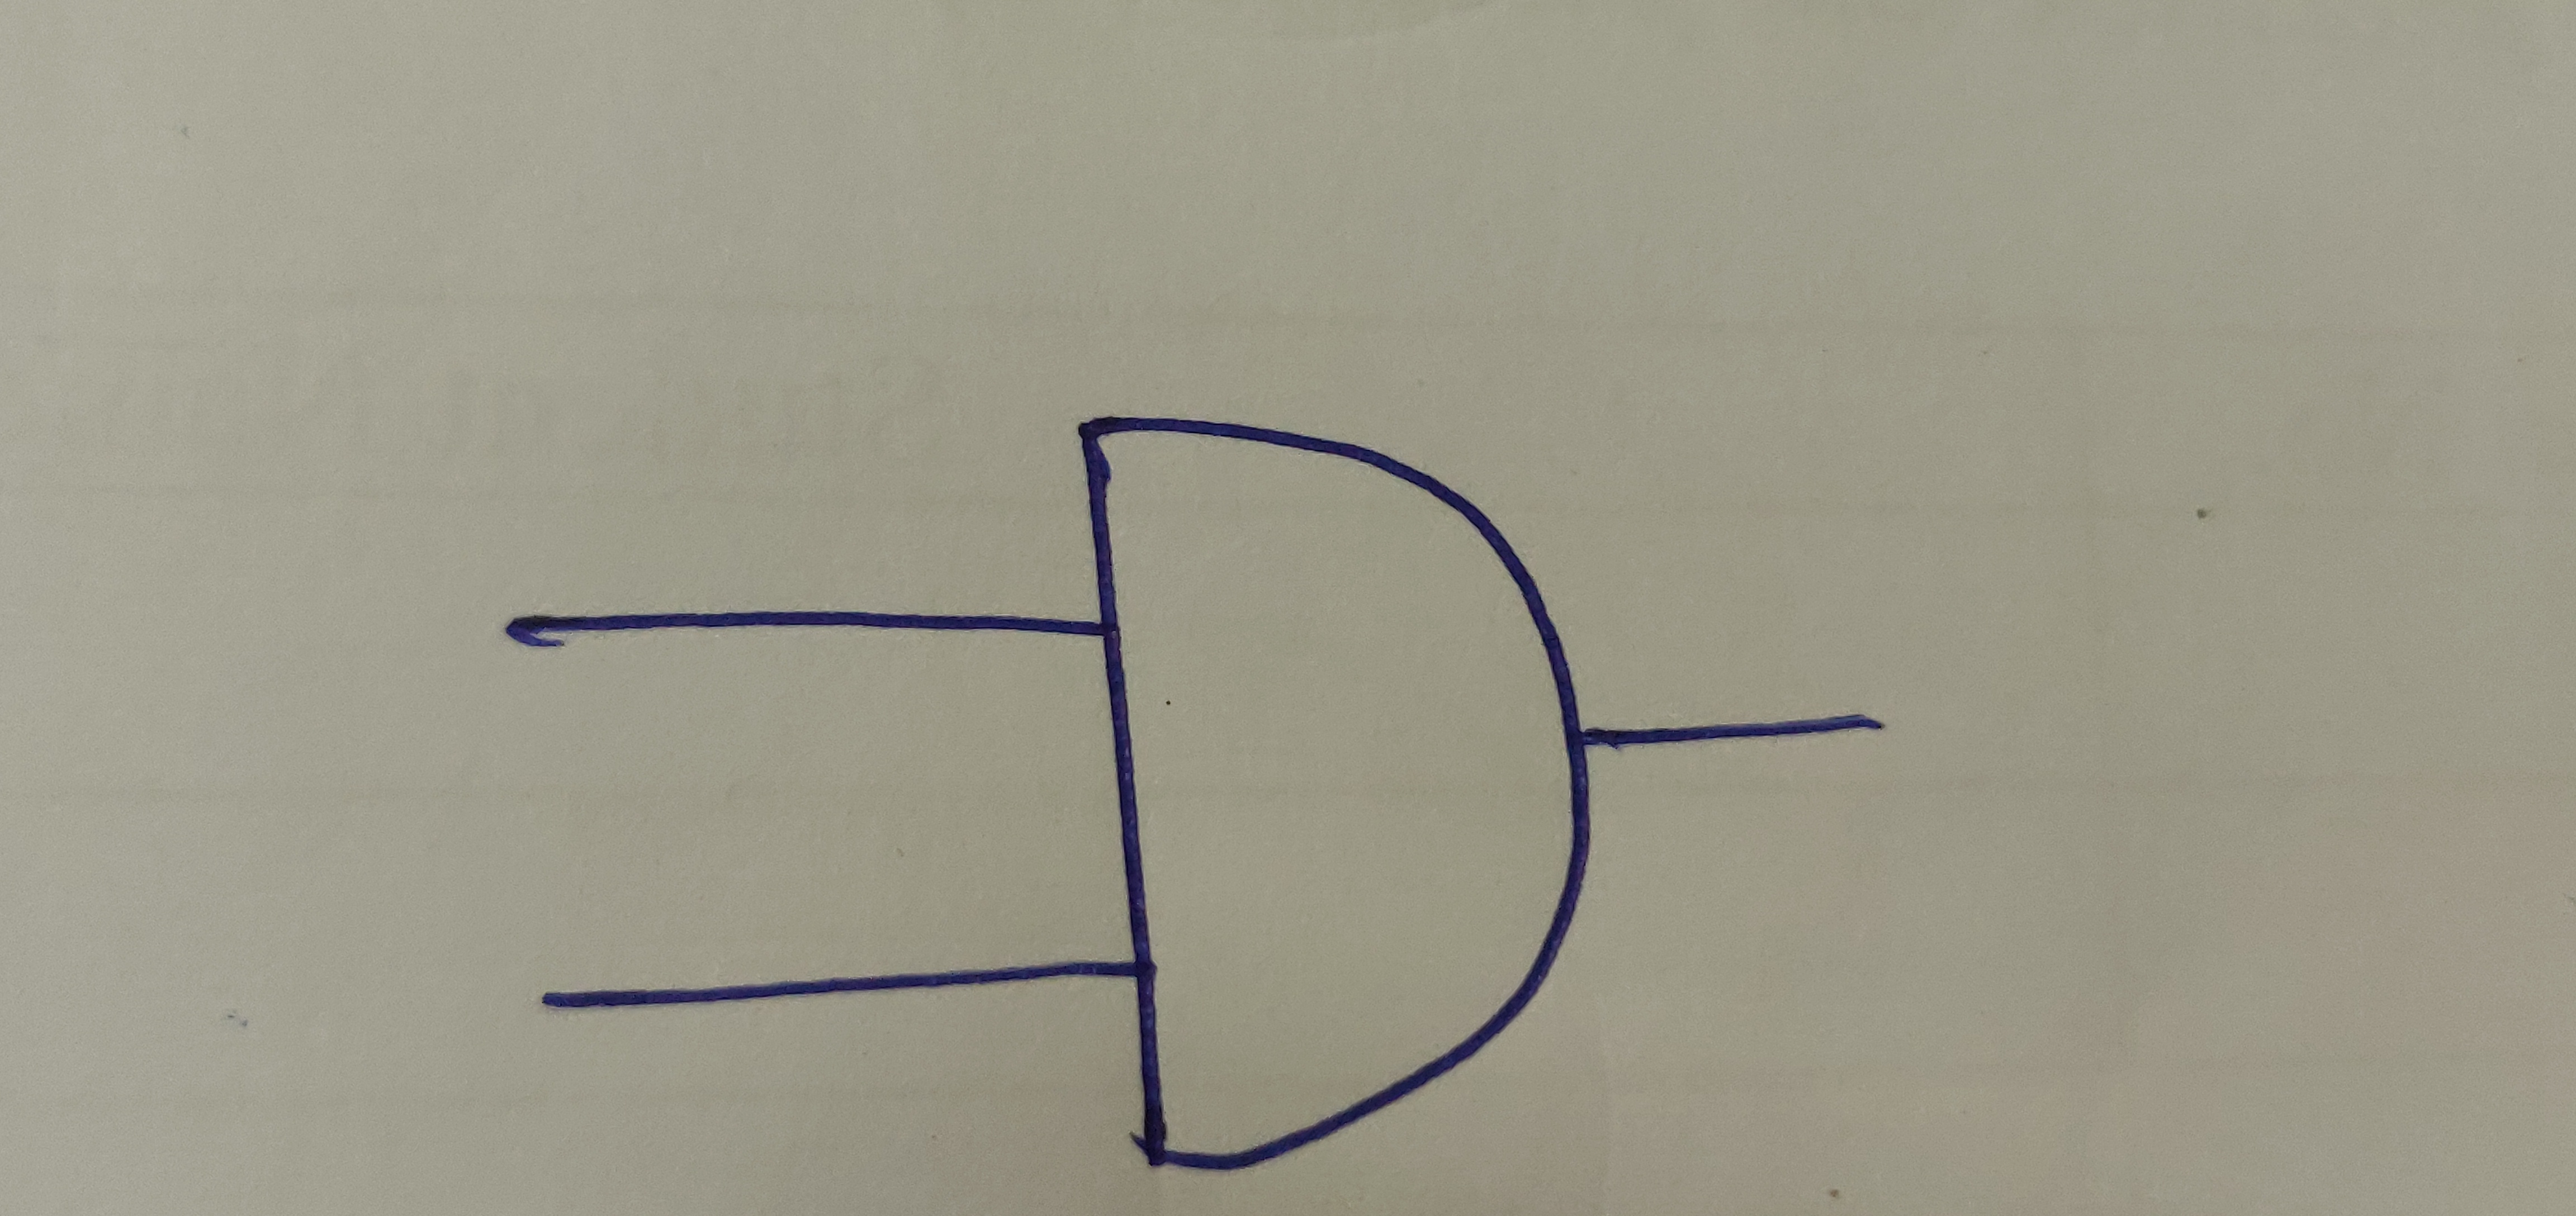and: (1078, 408, 1597, 1175)
